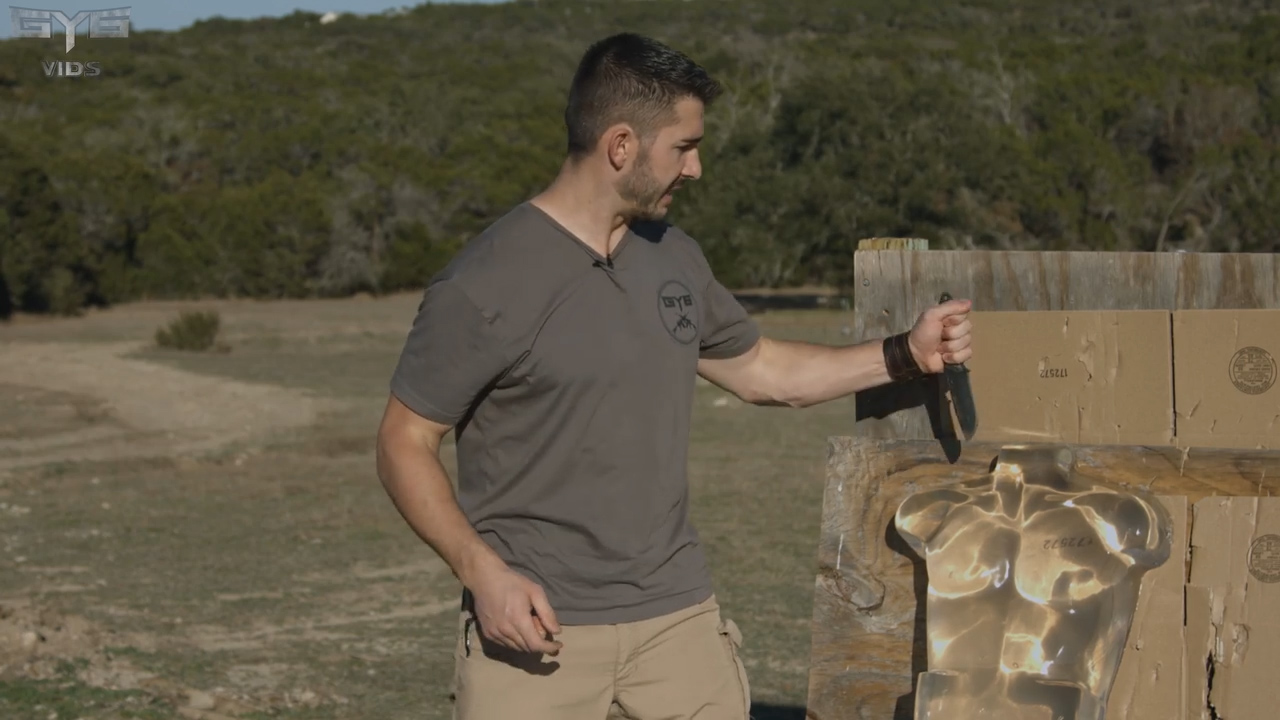knife: (923, 292, 990, 449)
